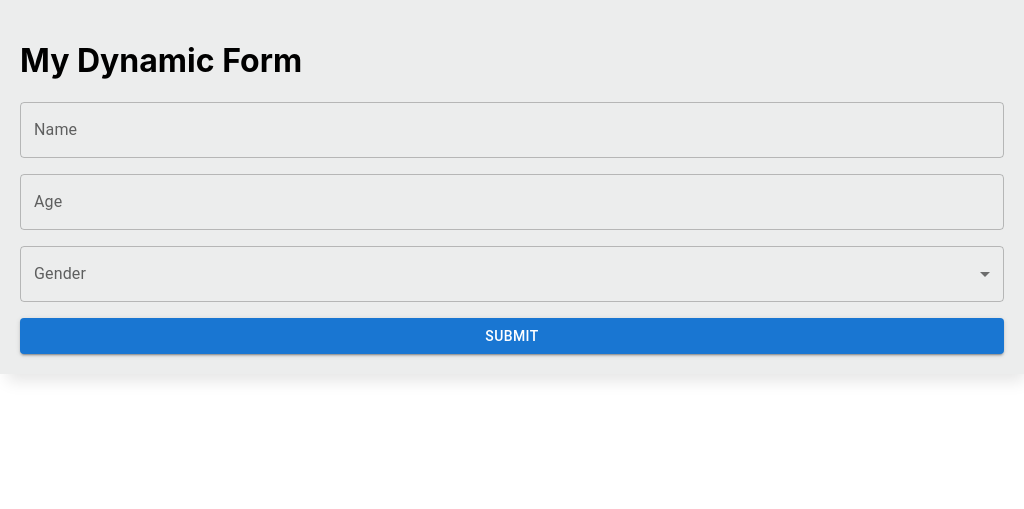
Test: displays error message on form submission with empty fields
The image size is (1024, 509).
What coordinates should you click on to do the following:
click the button "Submit"
I would click on:
 (512, 336)
Its box is [20, 318, 1004, 354].
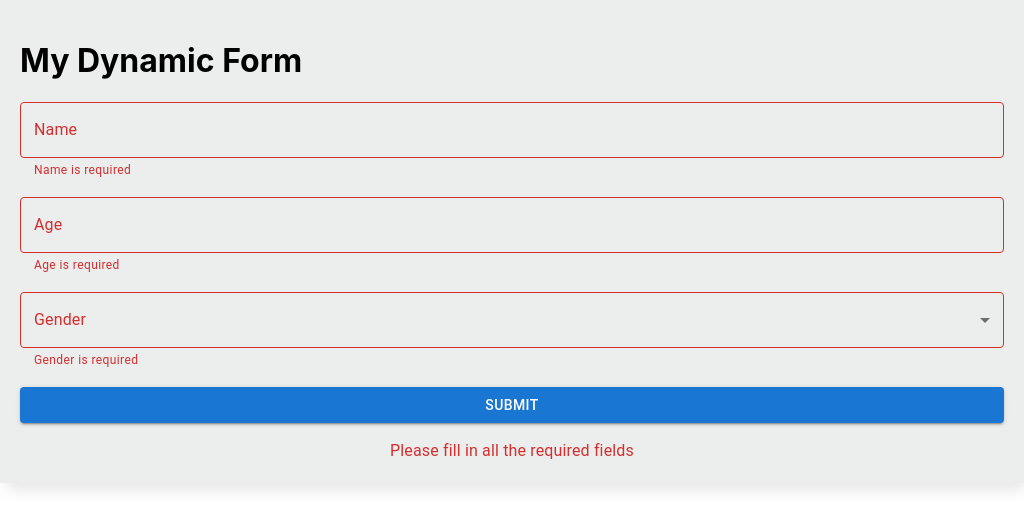
Now the text "Please fill in all the required fields" is shown, box [390, 441, 634, 460]
